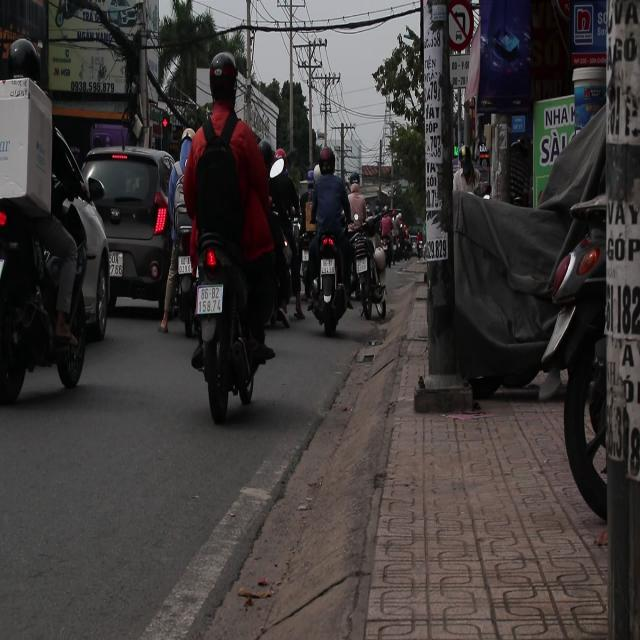car: (3, 138, 116, 340), (83, 147, 176, 319)
motorbike: (0, 95, 115, 402), (181, 199, 259, 420), (295, 211, 350, 352), (348, 213, 390, 324)
